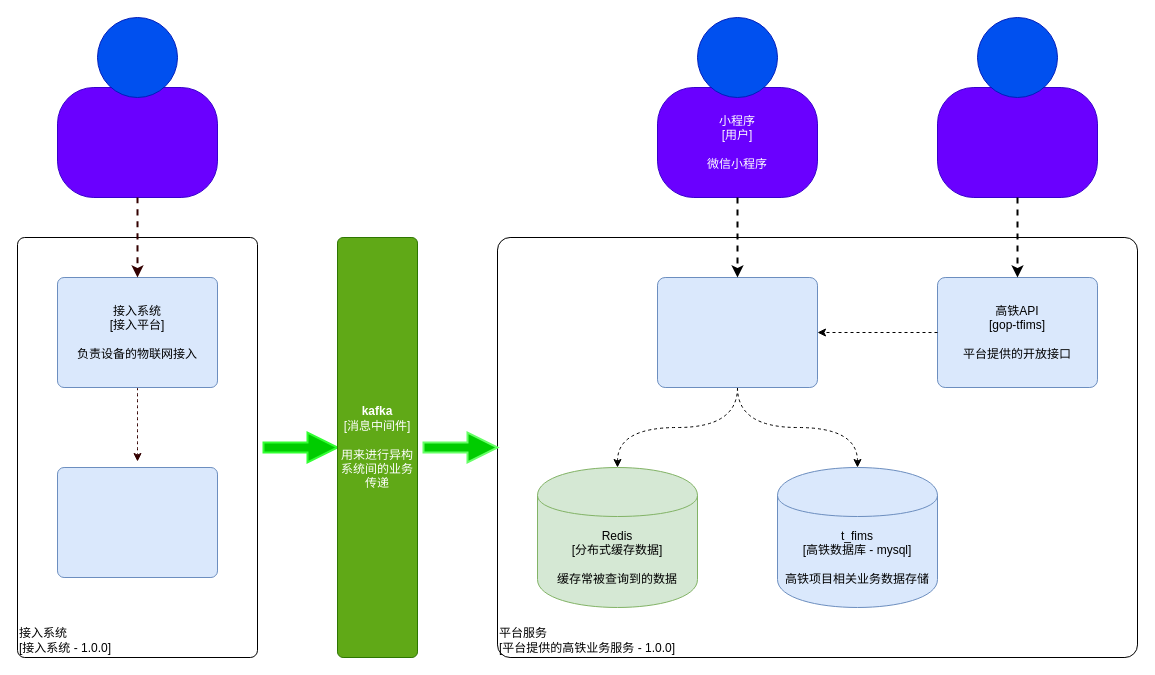
This 1155x675 diagram has some shape labels left out. Here are the shapes that lost their labels. From the top down, the centre of each, then its label:
At point (137, 142): "终端设备 [子系统] 高铁上的相关设备".
At point (1017, 142): "后台admin [用户] 运维后台".
At point (737, 332): "高铁SOA服务 [rpc-tfims] 平台提供相关服务".
At point (137, 522): "状态服务器+业务处理 [接入平台 ] 负责设备状态管理，及上报数据分析".
